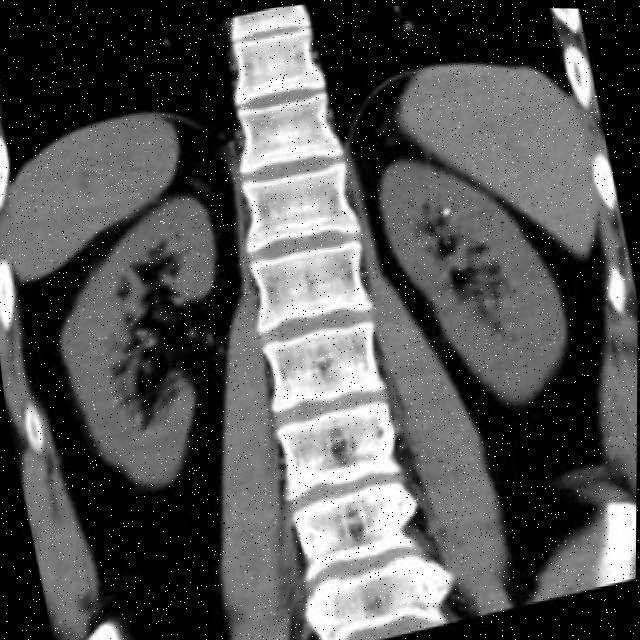Tas_Var: (440, 196, 461, 224)
